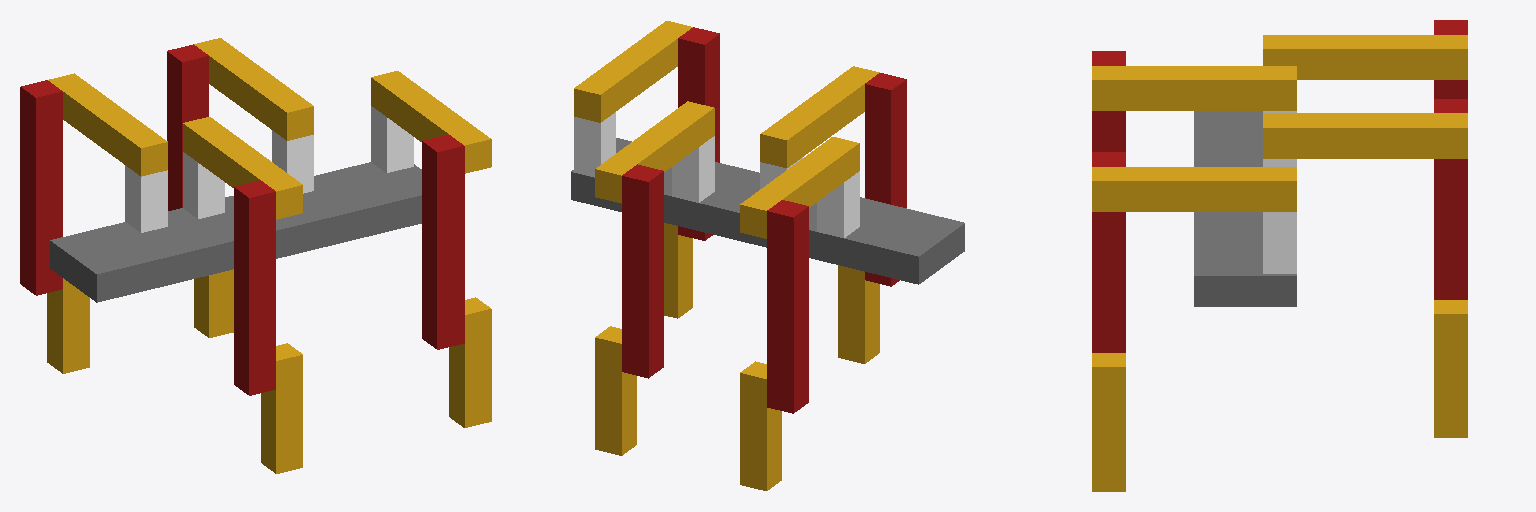
URDF robot description (v0):
<?xml version="1.0" encoding="utf-8"?>
<!-- =================================================================================== -->
<!-- |    This document was autogenerated by xacro from ../robots/v0variants/xacros/v0_4l_18.xacro | -->
<!-- |    EDITING THIS FILE BY HAND IS NOT RECOMMENDED                                 | -->
<!-- =================================================================================== -->
<robot name="v0">
  <material name="grey">
    <color rgba="0.5 0.5 0.5 1"/>
  </material>
  <material name="white">
    <color rgba="1 1 1 1"/>
  </material>
  <material name="yellow">
    <color rgba="0.91 0.7 0.14 1"/>
  </material>
  <material name="red">
    <color rgba="0.71 0.14 0.14 1"/>
  </material>
  <link name="body">
    <visual>
      <geometry>
        <box size="1.3 0.3 0.1"/>
      </geometry>
      <material name="grey"/>
      <origin rpy="0 0 0" xyz="0 0 0.7"/>
    </visual>
    <collision>
      <geometry>
        <box size="1.3 0.3 0.1"/>
      </geometry>
      <origin rpy="0 0 0" xyz="0 0 0.7"/>
    </collision>
    <inertial>
      <mass value="99.84"/>
      <inertia ixx="0.832" ixy="0.0" ixz="0.0" iyy="14.144" iyz="0.0" izz="14.8096"/>
    </inertial>
  </link>
  <link name="l1_segment_1">
    <visual>
      <geometry>
        <box size="0.1 0.1 0.2"/>
      </geometry>
      <material name="white"/>
      <origin rpy="0 0 0" xyz="0 0 0.1"/>
    </visual>
    <collision>
      <geometry>
        <box size="0.1 0.1 0.2"/>
      </geometry>
      <origin rpy="0 0 0" xyz="0 0 0.1"/>
    </collision>
    <inertial>
      <mass value="5.12"/>
      <inertia ixx="0.0213333333333" ixy="0.0" ixz="0.0" iyy="0.0213333333333" iyz="0.0" izz="0.00853333333333"/>
    </inertial>
  </link>
  <joint name="l1_base_to_joint_1" type="fixed">
    <parent link="body"/>
    <child link="l1_segment_1"/>
    <origin rpy="0 0 0" xyz="-0.32063483736196874 0.1 0.75"/>
  </joint>
  <link name="l1_segment_2_HIP">
    <visual>
      <geometry>
        <box size="0.1 0.6 0.1"/>
      </geometry>
      <material name="yellow"/>
      <origin rpy="0 0 0" xyz="0 0.25 0"/>
    </visual>
    <collision>
      <geometry>
        <box size="0.1 0.6 0.1"/>
      </geometry>
      <origin rpy="0 0 0" xyz="0 0.25 0"/>
    </collision>
    <inertial>
      <mass value="15.36"/>
      <inertia ixx="0.4736" ixy="0.0" ixz="0.0" iyy="0.0256" iyz="0.0" izz="0.4736"/>
    </inertial>
  </link>
  <joint name="l1_joint_1_to_2" type="revolute">
    <parent link="l1_segment_1"/>
    <child link="l1_segment_2_HIP"/>
    <origin rpy="0 0 0" xyz="0 0 0.25"/>
    <axis xyz="0.0 0.0 1.0"/>
    <limit effort="2048" lower="-1.2" upper="1.2" velocity="20"/>
  </joint>
  <link name="l1_segment_3_THIGH">
    <visual>
      <geometry>
        <box size="0.1 0.1 0.7"/>
      </geometry>
      <material name="red"/>
      <origin rpy="0 0 0" xyz="0 0 -0.3"/>
    </visual>
    <collision>
      <geometry>
        <box size="0.1 0.1 0.7"/>
      </geometry>
      <origin rpy="0 0 0" xyz="0 0 -0.3"/>
    </collision>
    <inertial>
      <mass value="17.92"/>
      <inertia ixx="0.746666666667" ixy="0.0" ixz="0.0" iyy="0.746666666667" iyz="0.0" izz="0.0298666666667"/>
    </inertial>
  </link>
  <joint name="l1_joint_2_to_3" type="revolute">
    <parent link="l1_segment_2_HIP"/>
    <child link="l1_segment_3_THIGH"/>
    <origin rpy="0 0 0" xyz="-0.1 0.5 0"/>
    <axis xyz="1.0 0.0 0.0"/>
    <limit effort="2048" lower="-0.2" upper="0.75" velocity="20"/>
  </joint>
  <link name="l1_segment_4_FOOT">
    <visual>
      <geometry>
        <box size="0.1 0.1 0.4"/>
      </geometry>
      <material name="yellow"/>
      <origin rpy="0 0 0" xyz="0 0 -0.2"/>
    </visual>
    <collision>
      <geometry>
        <box size="0.1 0.1 0.4"/>
      </geometry>
      <origin rpy="0 0 0" xyz="0 0 -0.2"/>
    </collision>
    <inertial>
      <mass value="10.24"/>
      <inertia ixx="0.145066666667" ixy="0.0" ixz="0.0" iyy="0.145066666667" iyz="0.0" izz="0.0170666666667"/>
    </inertial>
  </link>
  <joint name="l1_joint_3_to_4_FOOT" type="revolute">
    <parent link="l1_segment_3_THIGH"/>
    <child link="l1_segment_4_FOOT"/>
    <origin rpy="0 0 0" xyz="0.1 0 -0.55"/>
    <axis xyz="1.0 0.0 0.0"/>
    <limit effort="2048" lower="-0.2" upper="0.5" velocity="20"/>
  </joint>
  <link name="r2_segment_1">
    <visual>
      <geometry>
        <box size="0.1 0.1 0.2"/>
      </geometry>
      <material name="white"/>
      <origin rpy="0 0 0" xyz="0 0 0.1"/>
    </visual>
    <collision>
      <geometry>
        <box size="0.1 0.1 0.2"/>
      </geometry>
      <origin rpy="0 0 0" xyz="0 0 0.1"/>
    </collision>
    <inertial>
      <mass value="5.12"/>
      <inertia ixx="0.0213333333333" ixy="0.0" ixz="0.0" iyy="0.0213333333333" iyz="0.0" izz="0.00853333333333"/>
    </inertial>
  </link>
  <joint name="r2_base_to_joint_1" type="fixed">
    <parent link="body"/>
    <child link="r2_segment_1"/>
    <origin rpy="0 0 0" xyz="-0.10847347472171051 0.1 0.75"/>
  </joint>
  <link name="r2_segment_2_HIP">
    <visual>
      <geometry>
        <box size="0.1 0.6 0.1"/>
      </geometry>
      <material name="yellow"/>
      <origin rpy="0 0 0" xyz="0 -0.25 0"/>
    </visual>
    <collision>
      <geometry>
        <box size="0.1 0.6 0.1"/>
      </geometry>
      <origin rpy="0 0 0" xyz="0 -0.25 0"/>
    </collision>
    <inertial>
      <mass value="15.36"/>
      <inertia ixx="0.4736" ixy="0.0" ixz="0.0" iyy="0.0256" iyz="0.0" izz="0.4736"/>
    </inertial>
  </link>
  <joint name="r2_joint_1_to_2" type="revolute">
    <parent link="r2_segment_1"/>
    <child link="r2_segment_2_HIP"/>
    <origin rpy="0 0 0" xyz="0 0 0.25"/>
    <axis xyz="0.0 0.0 1.0"/>
    <limit effort="2048" lower="-1.2" upper="1.2" velocity="20"/>
  </joint>
  <link name="r2_segment_3_THIGH">
    <visual>
      <geometry>
        <box size="0.1 0.1 0.7"/>
      </geometry>
      <material name="red"/>
      <origin rpy="0 0 0" xyz="0 0 -0.3"/>
    </visual>
    <collision>
      <geometry>
        <box size="0.1 0.1 0.7"/>
      </geometry>
      <origin rpy="0 0 0" xyz="0 0 -0.3"/>
    </collision>
    <inertial>
      <mass value="17.92"/>
      <inertia ixx="0.746666666667" ixy="0.0" ixz="0.0" iyy="0.746666666667" iyz="0.0" izz="0.0298666666667"/>
    </inertial>
  </link>
  <joint name="r2_joint_2_to_3" type="revolute">
    <parent link="r2_segment_2_HIP"/>
    <child link="r2_segment_3_THIGH"/>
    <origin rpy="0 0 0" xyz="-0.1 -0.5 0"/>
    <axis xyz="1.0 0.0 0.0"/>
    <limit effort="2048" lower="-0.75" upper="0.2" velocity="20"/>
  </joint>
  <link name="r2_segment_4_FOOT">
    <visual>
      <geometry>
        <box size="0.1 0.1 0.4"/>
      </geometry>
      <material name="yellow"/>
      <origin rpy="0 0 0" xyz="0 0 -0.2"/>
    </visual>
    <collision>
      <geometry>
        <box size="0.1 0.1 0.4"/>
      </geometry>
      <origin rpy="0 0 0" xyz="0 0 -0.2"/>
    </collision>
    <inertial>
      <mass value="10.24"/>
      <inertia ixx="0.145066666667" ixy="0.0" ixz="0.0" iyy="0.145066666667" iyz="0.0" izz="0.0170666666667"/>
    </inertial>
  </link>
  <joint name="r2_joint_3_to_4_FOOT" type="revolute">
    <parent link="r2_segment_3_THIGH"/>
    <child link="r2_segment_4_FOOT"/>
    <origin rpy="0 0 0" xyz="0.1 0 -0.55"/>
    <axis xyz="1.0 0.0 0.0"/>
    <limit effort="2048" lower="-0.5" upper="0.2" velocity="20"/>
  </joint>
  <link name="l3_segment_1">
    <visual>
      <geometry>
        <box size="0.1 0.1 0.2"/>
      </geometry>
      <material name="white"/>
      <origin rpy="0 0 0" xyz="0 0 0.1"/>
    </visual>
    <collision>
      <geometry>
        <box size="0.1 0.1 0.2"/>
      </geometry>
      <origin rpy="0 0 0" xyz="0 0 0.1"/>
    </collision>
    <inertial>
      <mass value="5.12"/>
      <inertia ixx="0.0213333333333" ixy="0.0" ixz="0.0" iyy="0.0213333333333" iyz="0.0" izz="0.00853333333333"/>
    </inertial>
  </link>
  <joint name="l3_base_to_joint_1" type="fixed">
    <parent link="body"/>
    <child link="l3_segment_1"/>
    <origin rpy="0 0 0" xyz="0.2203953117482885 0.1 0.75"/>
  </joint>
  <link name="l3_segment_2_HIP">
    <visual>
      <geometry>
        <box size="0.1 0.6 0.1"/>
      </geometry>
      <material name="yellow"/>
      <origin rpy="0 0 0" xyz="0 0.25 0"/>
    </visual>
    <collision>
      <geometry>
        <box size="0.1 0.6 0.1"/>
      </geometry>
      <origin rpy="0 0 0" xyz="0 0.25 0"/>
    </collision>
    <inertial>
      <mass value="15.36"/>
      <inertia ixx="0.4736" ixy="0.0" ixz="0.0" iyy="0.0256" iyz="0.0" izz="0.4736"/>
    </inertial>
  </link>
  <joint name="l3_joint_1_to_2" type="revolute">
    <parent link="l3_segment_1"/>
    <child link="l3_segment_2_HIP"/>
    <origin rpy="0 0 0" xyz="0 0 0.25"/>
    <axis xyz="0.0 0.0 1.0"/>
    <limit effort="2048" lower="-1.2" upper="1.2" velocity="20"/>
  </joint>
  <link name="l3_segment_3_THIGH">
    <visual>
      <geometry>
        <box size="0.1 0.1 0.7"/>
      </geometry>
      <material name="red"/>
      <origin rpy="0 0 0" xyz="0 0 -0.3"/>
    </visual>
    <collision>
      <geometry>
        <box size="0.1 0.1 0.7"/>
      </geometry>
      <origin rpy="0 0 0" xyz="0 0 -0.3"/>
    </collision>
    <inertial>
      <mass value="17.92"/>
      <inertia ixx="0.746666666667" ixy="0.0" ixz="0.0" iyy="0.746666666667" iyz="0.0" izz="0.0298666666667"/>
    </inertial>
  </link>
  <joint name="l3_joint_2_to_3" type="revolute">
    <parent link="l3_segment_2_HIP"/>
    <child link="l3_segment_3_THIGH"/>
    <origin rpy="0 0 0" xyz="-0.1 0.5 0"/>
    <axis xyz="1.0 0.0 0.0"/>
    <limit effort="2048" lower="-0.2" upper="0.75" velocity="20"/>
  </joint>
  <link name="l3_segment_4_FOOT">
    <visual>
      <geometry>
        <box size="0.1 0.1 0.4"/>
      </geometry>
      <material name="yellow"/>
      <origin rpy="0 0 0" xyz="0 0 -0.2"/>
    </visual>
    <collision>
      <geometry>
        <box size="0.1 0.1 0.4"/>
      </geometry>
      <origin rpy="0 0 0" xyz="0 0 -0.2"/>
    </collision>
    <inertial>
      <mass value="10.24"/>
      <inertia ixx="0.145066666667" ixy="0.0" ixz="0.0" iyy="0.145066666667" iyz="0.0" izz="0.0170666666667"/>
    </inertial>
  </link>
  <joint name="l3_joint_3_to_4_FOOT" type="revolute">
    <parent link="l3_segment_3_THIGH"/>
    <child link="l3_segment_4_FOOT"/>
    <origin rpy="0 0 0" xyz="0.1 0 -0.55"/>
    <axis xyz="1.0 0.0 0.0"/>
    <limit effort="2048" lower="-0.2" upper="0.5" velocity="20"/>
  </joint>
  <link name="r4_segment_1">
    <visual>
      <geometry>
        <box size="0.1 0.1 0.2"/>
      </geometry>
      <material name="white"/>
      <origin rpy="0 0 0" xyz="0 0 0.1"/>
    </visual>
    <collision>
      <geometry>
        <box size="0.1 0.1 0.2"/>
      </geometry>
      <origin rpy="0 0 0" xyz="0 0 0.1"/>
    </collision>
    <inertial>
      <mass value="5.12"/>
      <inertia ixx="0.0213333333333" ixy="0.0" ixz="0.0" iyy="0.0213333333333" iyz="0.0" izz="0.00853333333333"/>
    </inertial>
  </link>
  <joint name="r4_base_to_joint_1" type="fixed">
    <parent link="body"/>
    <child link="r4_segment_1"/>
    <origin rpy="0 0 0" xyz="0.5880382870966381 0.1 0.75"/>
  </joint>
  <link name="r4_segment_2_HIP">
    <visual>
      <geometry>
        <box size="0.1 0.6 0.1"/>
      </geometry>
      <material name="yellow"/>
      <origin rpy="0 0 0" xyz="0 -0.25 0"/>
    </visual>
    <collision>
      <geometry>
        <box size="0.1 0.6 0.1"/>
      </geometry>
      <origin rpy="0 0 0" xyz="0 -0.25 0"/>
    </collision>
    <inertial>
      <mass value="15.36"/>
      <inertia ixx="0.4736" ixy="0.0" ixz="0.0" iyy="0.0256" iyz="0.0" izz="0.4736"/>
    </inertial>
  </link>
  <joint name="r4_joint_1_to_2" type="revolute">
    <parent link="r4_segment_1"/>
    <child link="r4_segment_2_HIP"/>
    <origin rpy="0 0 0" xyz="0 0 0.25"/>
    <axis xyz="0.0 0.0 1.0"/>
    <limit effort="2048" lower="-1.2" upper="1.2" velocity="20"/>
  </joint>
  <link name="r4_segment_3_THIGH">
    <visual>
      <geometry>
        <box size="0.1 0.1 0.7"/>
      </geometry>
      <material name="red"/>
      <origin rpy="0 0 0" xyz="0 0 -0.3"/>
    </visual>
    <collision>
      <geometry>
        <box size="0.1 0.1 0.7"/>
      </geometry>
      <origin rpy="0 0 0" xyz="0 0 -0.3"/>
    </collision>
    <inertial>
      <mass value="17.92"/>
      <inertia ixx="0.746666666667" ixy="0.0" ixz="0.0" iyy="0.746666666667" iyz="0.0" izz="0.0298666666667"/>
    </inertial>
  </link>
  <joint name="r4_joint_2_to_3" type="revolute">
    <parent link="r4_segment_2_HIP"/>
    <child link="r4_segment_3_THIGH"/>
    <origin rpy="0 0 0" xyz="-0.1 -0.5 0"/>
    <axis xyz="1.0 0.0 0.0"/>
    <limit effort="2048" lower="-0.75" upper="0.2" velocity="20"/>
  </joint>
  <link name="r4_segment_4_FOOT">
    <visual>
      <geometry>
        <box size="0.1 0.1 0.4"/>
      </geometry>
      <material name="yellow"/>
      <origin rpy="0 0 0" xyz="0 0 -0.2"/>
    </visual>
    <collision>
      <geometry>
        <box size="0.1 0.1 0.4"/>
      </geometry>
      <origin rpy="0 0 0" xyz="0 0 -0.2"/>
    </collision>
    <inertial>
      <mass value="10.24"/>
      <inertia ixx="0.145066666667" ixy="0.0" ixz="0.0" iyy="0.145066666667" iyz="0.0" izz="0.0170666666667"/>
    </inertial>
  </link>
  <joint name="r4_joint_3_to_4_FOOT" type="revolute">
    <parent link="r4_segment_3_THIGH"/>
    <child link="r4_segment_4_FOOT"/>
    <origin rpy="0 0 0" xyz="0.1 0 -0.55"/>
    <axis xyz="1.0 0.0 0.0"/>
    <limit effort="2048" lower="-0.5" upper="0.2" velocity="20"/>
  </joint>
</robot>

--- What the picture shows (computed from the rendered views, not written in the file) ---
Views: 3 orthographic renders of the robot side by side, from view 1: azimuth 30°, elevation 25°; view 2: azimuth 150°, elevation 25°; view 3: azimuth 270°, elevation 25°.
Model v0 with 17 links and 16 joints (12 revolute, 4 fixed), rooted at body, posed all joints at 0.
Links seen in each view (by area): view 1: body, r4_segment_3_THIGH, r2_segment_3_THIGH, l1_segment_3_THIGH, l3_segment_2_HIP, l1_segment_2_HIP, r4_segment_2_HIP, r2_segment_2_HIP, r4_segment_4_FOOT, r2_segment_4_FOOT, l3_segment_3_THIGH, l1_segment_4_FOOT (+5 smaller); view 2: body, l1_segment_3_THIGH, l3_segment_3_THIGH, r2_segment_3_THIGH, r2_segment_2_HIP, r4_segment_2_HIP, l1_segment_2_HIP, l3_segment_2_HIP, l1_segment_4_FOOT, l3_segment_4_FOOT, r2_segment_4_FOOT, r4_segment_3_THIGH (+4 smaller); view 3: body, l3_segment_2_HIP, r2_segment_2_HIP, r4_segment_2_HIP, l1_segment_2_HIP, r4_segment_3_THIGH, l3_segment_3_THIGH, r4_segment_4_FOOT, l3_segment_4_FOOT, r4_segment_1, r2_segment_3_THIGH, l1_segment_3_THIGH.
Boxes of the visible links, x1,y1,x2,y2 form: body: (50,162,421,302); r4_segment_3_THIGH: (422,134,464,349); r2_segment_3_THIGH: (234,180,275,395); l1_segment_3_THIGH: (20,80,62,295); l3_segment_2_HIP: (194,38,313,140); l1_segment_2_HIP: (48,73,167,176); r4_segment_2_HIP: (371,71,491,173); r2_segment_2_HIP: (183,117,302,219); r4_segment_4_FOOT: (449,297,491,427); r2_segment_4_FOOT: (261,343,302,473); l3_segment_3_THIGH: (167,44,208,210); l1_segment_4_FOOT: (47,278,89,373); body: (571,138,964,284); l1_segment_3_THIGH: (767,200,808,413); l3_segment_3_THIGH: (622,164,663,378); r2_segment_3_THIGH: (865,73,906,286); r2_segment_2_HIP: (760,66,879,167); r4_segment_2_HIP: (574,21,692,122); l1_segment_2_HIP: (740,137,859,238); l3_segment_2_HIP: (595,101,714,203); l1_segment_4_FOOT: (740,361,781,490); l3_segment_4_FOOT: (595,326,636,455); r2_segment_4_FOOT: (838,265,879,363); r4_segment_3_THIGH: (678,27,719,240); body: (1194,111,1296,306); l3_segment_2_HIP: (1263,113,1467,158); r2_segment_2_HIP: (1092,66,1296,110); r4_segment_2_HIP: (1092,167,1296,211); l1_segment_2_HIP: (1263,35,1467,79); r4_segment_3_THIGH: (1092,152,1125,352); l3_segment_3_THIGH: (1434,99,1467,299); r4_segment_4_FOOT: (1092,353,1125,491); l3_segment_4_FOOT: (1434,300,1467,437); r4_segment_1: (1263,212,1296,273); r2_segment_3_THIGH: (1092,51,1125,151); l1_segment_3_THIGH: (1434,20,1467,98).
Size in the robot's own frame: 1.3 by 1.1 by 1 metres.
Geometry: primitives only (box / cylinder / sphere), no mesh files.